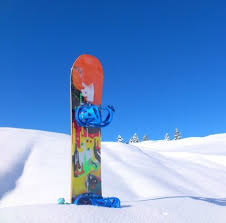snowboard: (68, 54, 105, 206)
